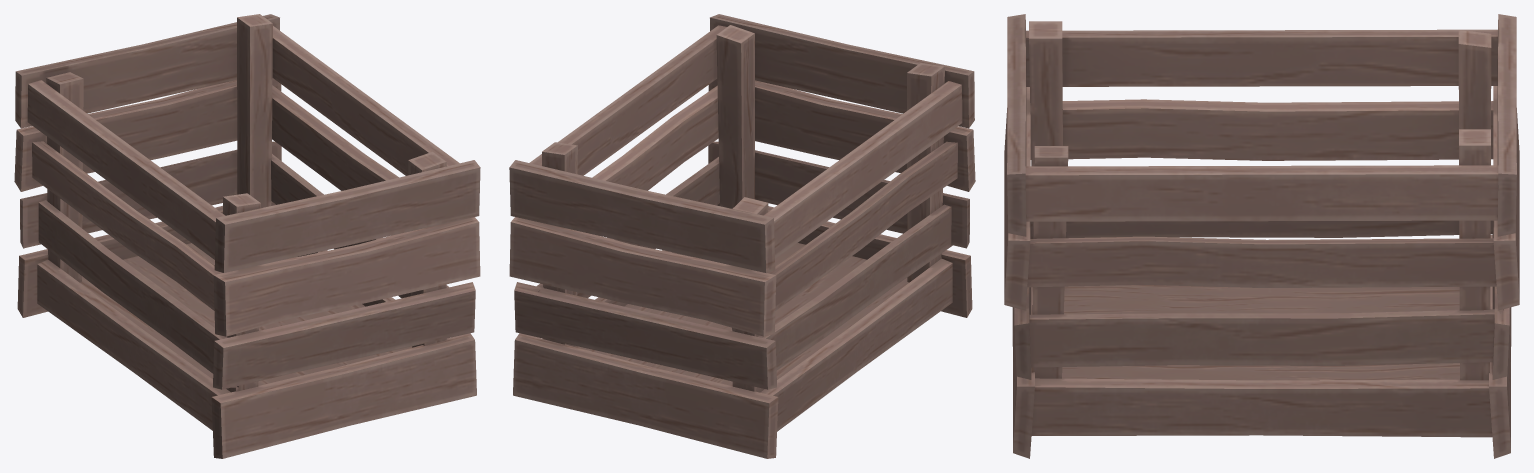
The picture shows the model from 3 angles, left to right: view 1: azimuth 30°, elevation 25°; view 2: azimuth 150°, elevation 25°; view 3: azimuth 270°, elevation 25°; orthographic projection. The views are drawn at different scales.
Parts seen in each view (by area): view 1: submesh_0; view 2: submesh_0; view 3: submesh_0.
Part boxes in pixels (box(x1,y1,x2,y2)): submesh_0: box(14, 14, 480, 458); submesh_0: box(509, 14, 975, 458); submesh_0: box(1004, 14, 1519, 458).
Bounding box in the file's own units: 0.5572 × 0.5129 × 0.7885.
1 material, 1 textured.
